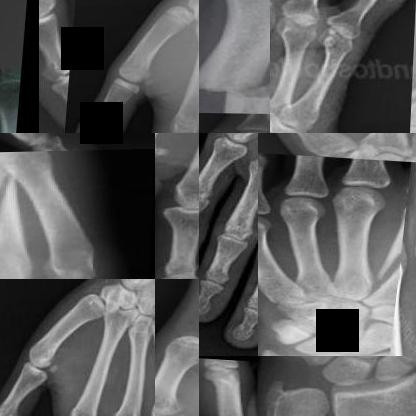fracture: (0, 167, 47, 275), (199, 56, 270, 114), (375, 217, 411, 278), (260, 372, 304, 415), (359, 0, 402, 9), (186, 342, 198, 371)
